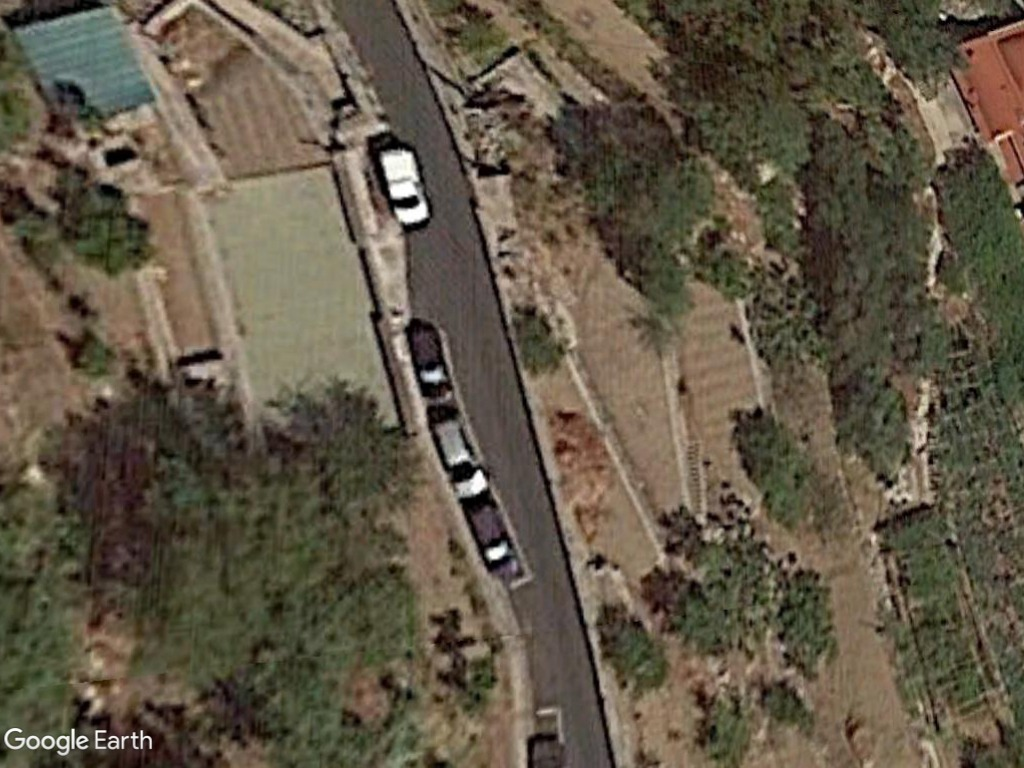car: (429, 416, 493, 504)
van: (372, 142, 433, 231)
